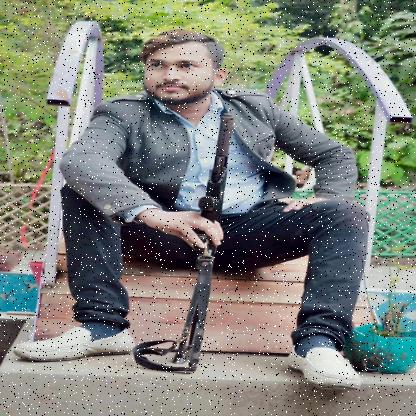rifle: (169, 112, 237, 366)
